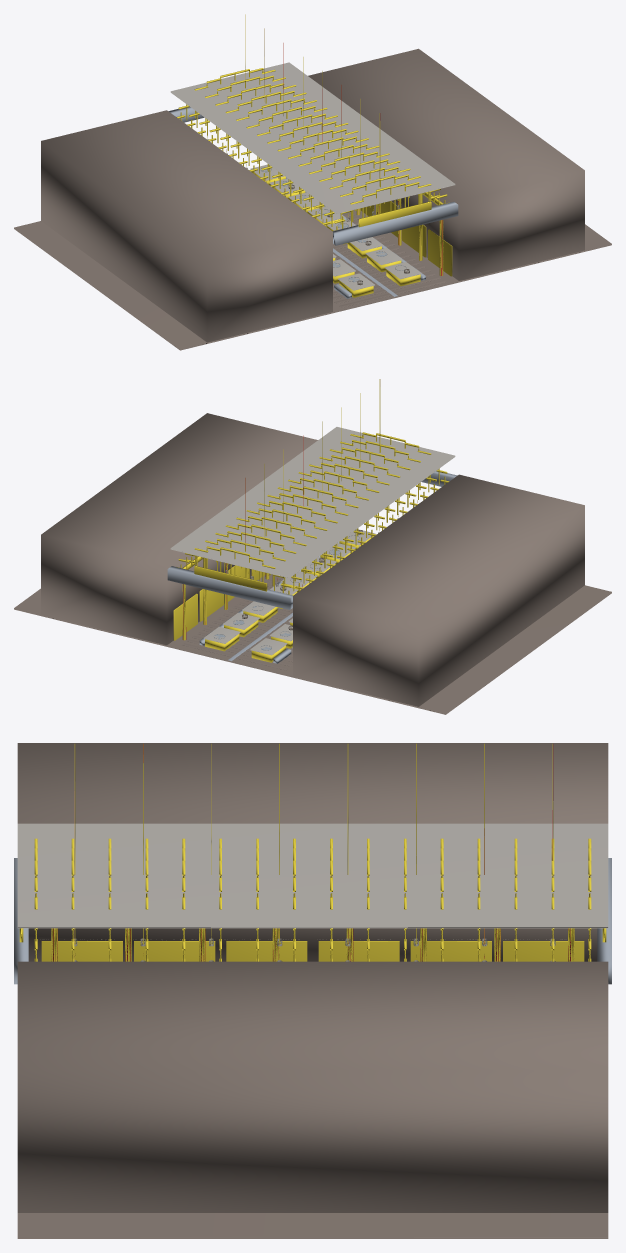
3 views of the same model, one above another, from view 1: azimuth 30°, elevation 25°; view 2: azimuth 150°, elevation 25°; view 3: azimuth 270°, elevation 25° (orthographic). The views are drawn at different scales.
Parts seen in each view (by area): view 1: gwangjang_shop_facades_and_signage, gwangjang_arcade_truss_roof, gwangjang_market_alley_floor, gwangjang_food_stalls_and_griddles, gwangjang_lanterns_and_gate; view 2: gwangjang_shop_facades_and_signage, gwangjang_arcade_truss_roof, gwangjang_market_alley_floor, gwangjang_food_stalls_and_griddles, gwangjang_lanterns_and_gate; view 3: gwangjang_shop_facades_and_signage, gwangjang_arcade_truss_roof, gwangjang_market_alley_floor, gwangjang_lanterns_and_gate.
Part boxes in pixels (<box>): gwangjang_shop_facades_and_signage: <box>41,48,584,342</box>; gwangjang_arcade_truss_roof: <box>170,62,455,275</box>; gwangjang_market_alley_floor: <box>14,170,611,350</box>; gwangjang_food_stalls_and_griddles: <box>250,164,425,298</box>; gwangjang_lanterns_and_gate: <box>168,14,458,245</box>; gwangjang_shop_facades_and_signage: <box>41,413,584,706</box>; gwangjang_arcade_truss_roof: <box>170,427,455,640</box>; gwangjang_market_alley_floor: <box>14,534,611,714</box>; gwangjang_food_stalls_and_griddles: <box>199,529,375,663</box>; gwangjang_lanterns_and_gate: <box>167,379,457,609</box>; gwangjang_shop_facades_and_signage: <box>17,743,608,1212</box>; gwangjang_arcade_truss_roof: <box>17,823,608,961</box>; gwangjang_market_alley_floor: <box>17,1213,608,1238</box>; gwangjang_lanterns_and_gate: <box>14,743,611,984</box>.
Bounding box in the file's own units: 48 × 18.4 × 32.4.
5 materials, 5 textured.
